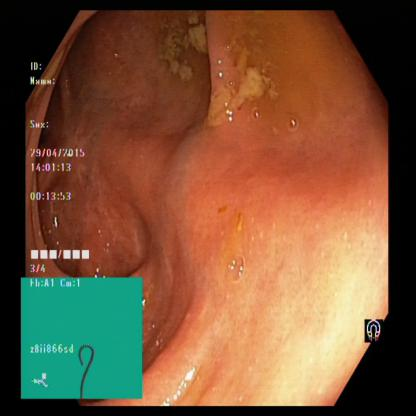Labels: (27, 59, 99, 279), (19, 278, 145, 397), (356, 313, 393, 354)
Polyps: (209, 55, 279, 137)
